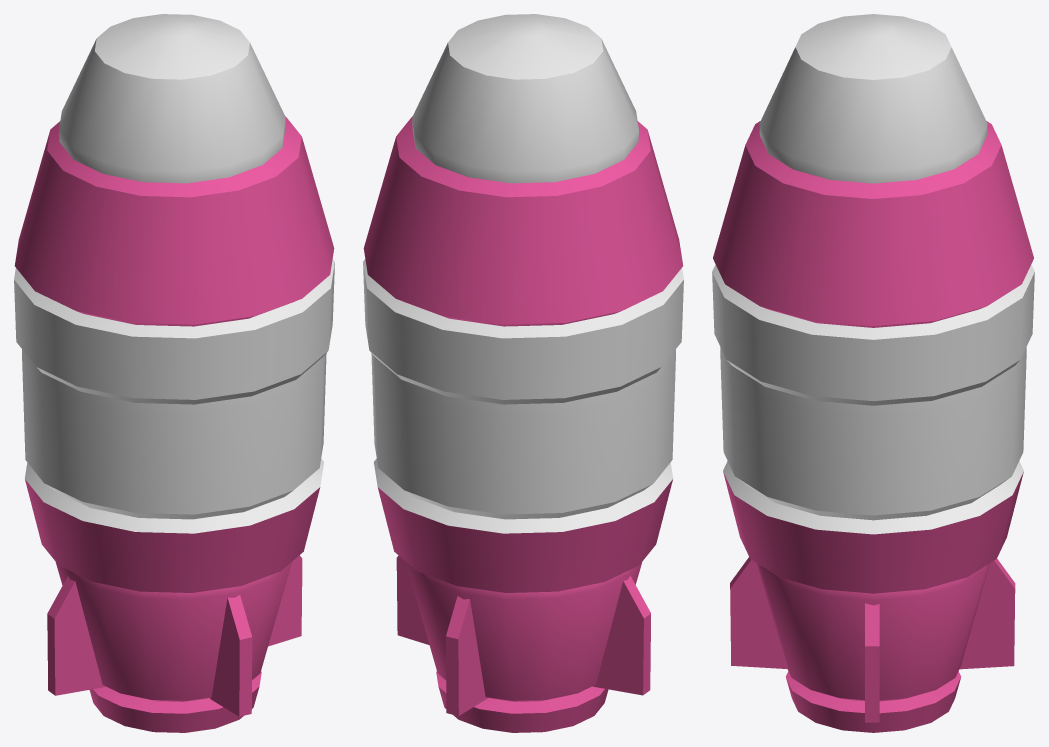
File: MORTAR_Boomer.fbx
3 renders of one model, left to right at view 1: azimuth 30°, elevation 25°; view 2: azimuth 150°, elevation 25°; view 3: azimuth 270°, elevation 25°, orthographic.
Visible parts, largest first — view 1: Cylinder.041; view 2: Cylinder.041; view 3: Cylinder.041.
Boxes of the visible parts, x1,y1,x2,y2 form: Cylinder.041: (14, 14, 334, 732); Cylinder.041: (363, 14, 683, 732); Cylinder.041: (712, 14, 1034, 732).
Bounding box in the file's own units: 2.58 × 5.98 × 2.58.
